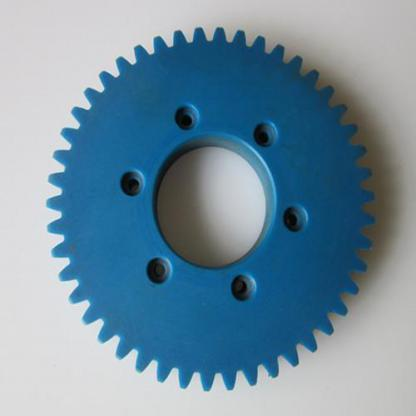FOD: (42, 21, 381, 398)
